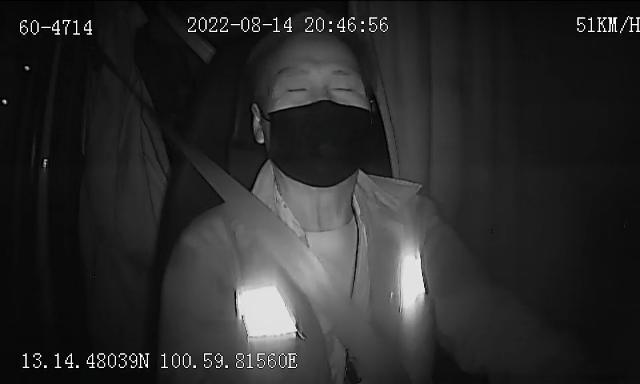Seatbelt: (135, 95, 383, 384)
